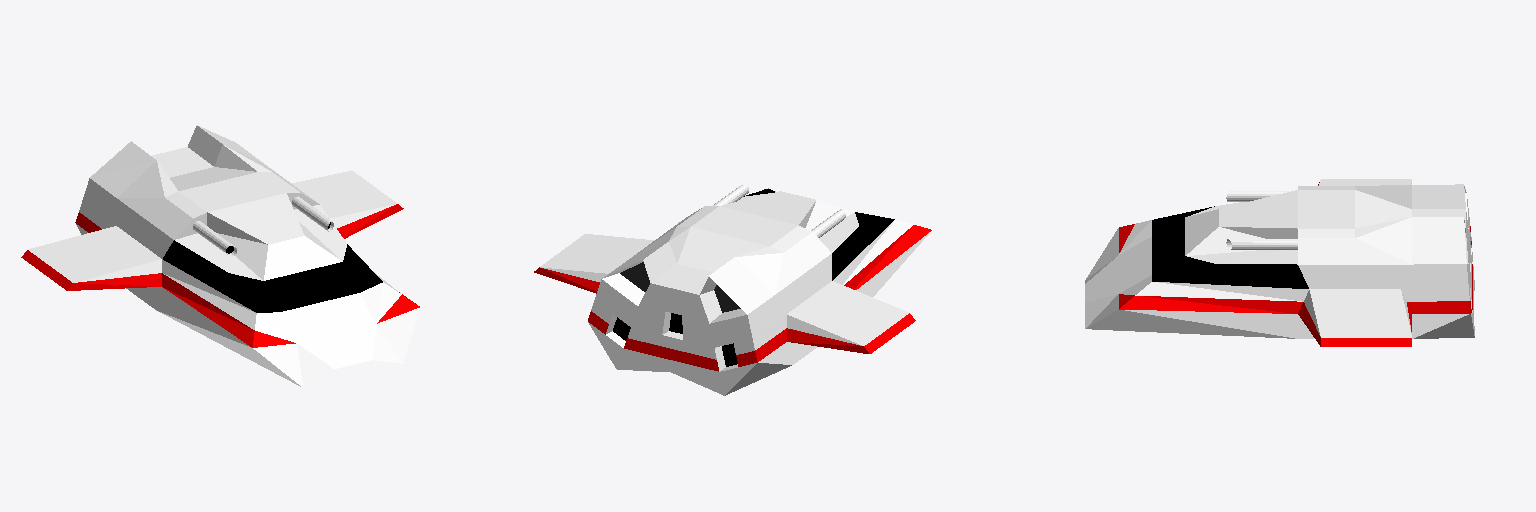
Rendered from ship.obj.
The picture shows the model from 3 angles: view 1: azimuth 30°, elevation 25°; view 2: azimuth 150°, elevation 25°; view 3: azimuth 270°, elevation 25°; orthographic projection.
Visible parts, largest first — view 1: Ship_Cube.001, Cylinder_Cylinder.003; view 2: Ship_Cube.001; view 3: Ship_Cube.001, Cylinder.001_Cylinder.004.
Boxes of the visible parts, x1,y1,x2,y2 form: Ship_Cube.001: [21, 125, 420, 387]; Cylinder_Cylinder.003: [193, 221, 236, 255]; Ship_Cube.001: [534, 188, 931, 395]; Ship_Cube.001: [1085, 179, 1474, 346]; Cylinder.001_Cylinder.004: [1226, 239, 1297, 249].
Size of the model in its own units: 1.36 by 0.4279 by 1.36.